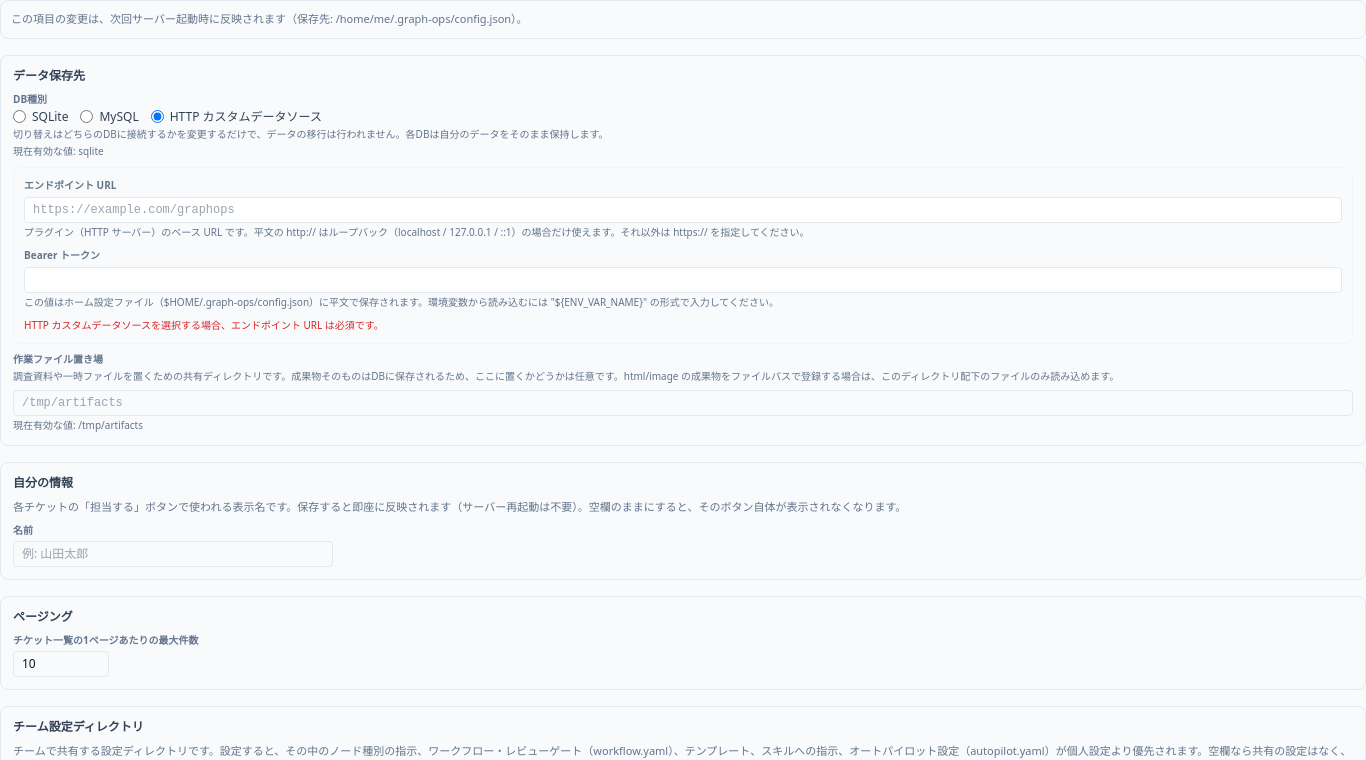
it: AppSettingsEditor: HTTP custom data source › URL https://example.com with token  shows the right input error
Type "https://example.com" into the field labelled "エンドポイント URL". click: (683, 210)
box: [24,196,1342,222]
(page scrolled)
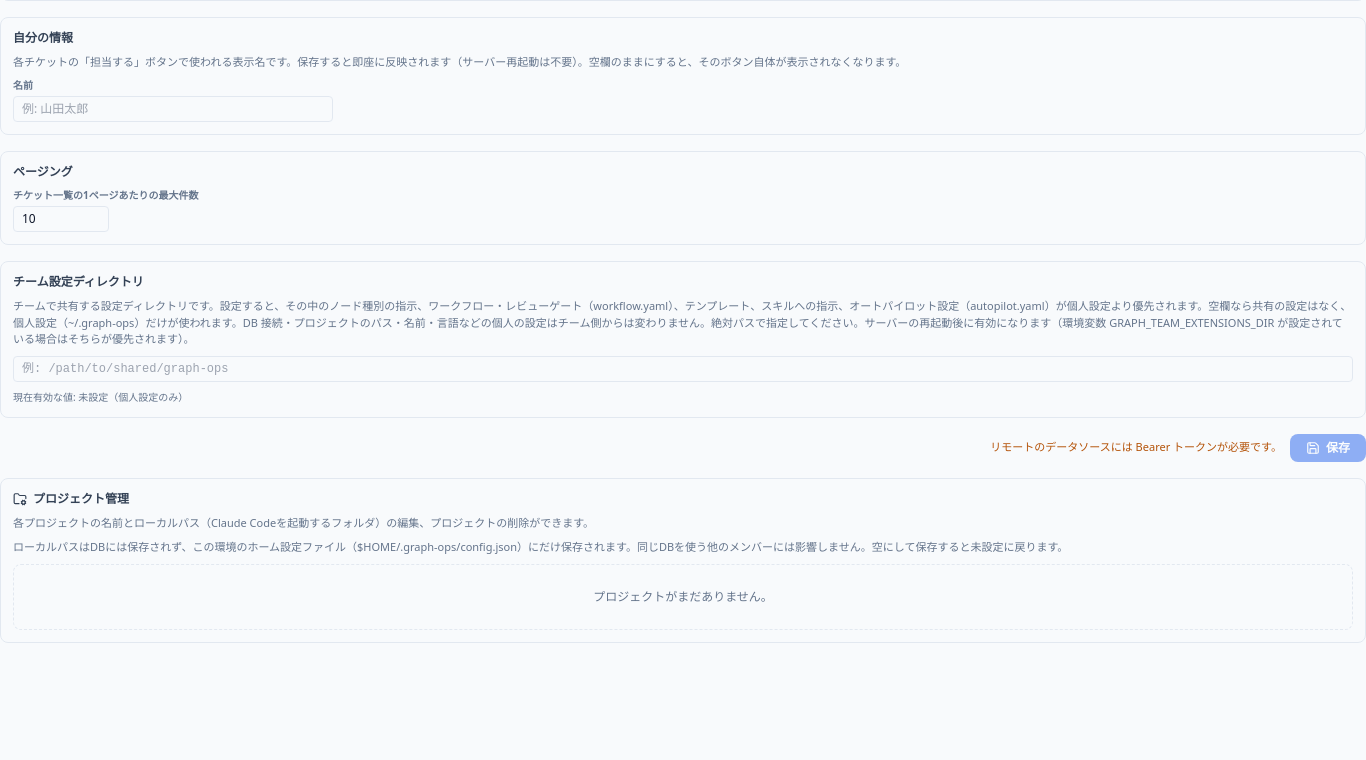
Now the text "HTTP カスタムデータソースを選択する場合、エンドポイント URL は必須です。" is gone
